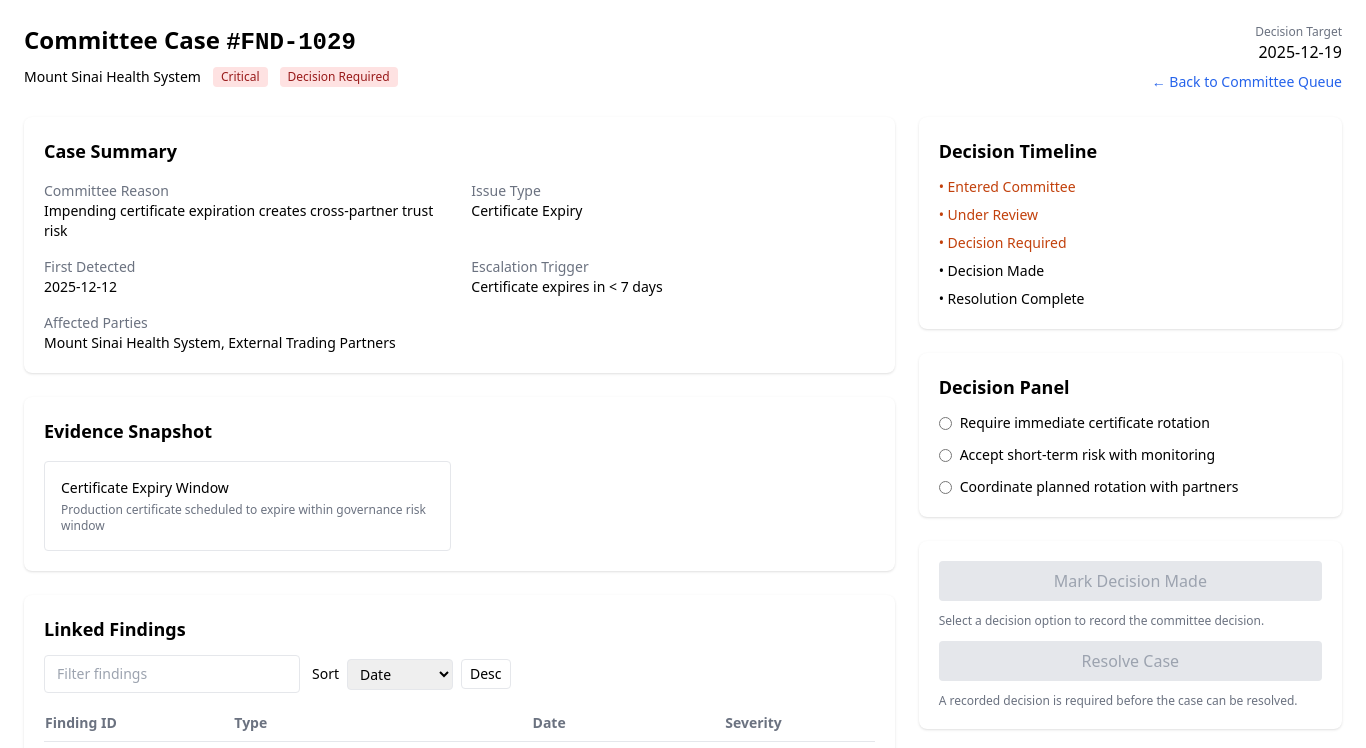
decision required case records decision before resolution
Expected: the button "Mark Decision Made" is disabled, [939,561,1322,601]
Expected: the text "Select a decision option to record the committee decision." is shown, [939,612,1264,629]
Click the radio button labelled "Require immediate certificate rotation" at (945, 424), box [939,417,952,430]
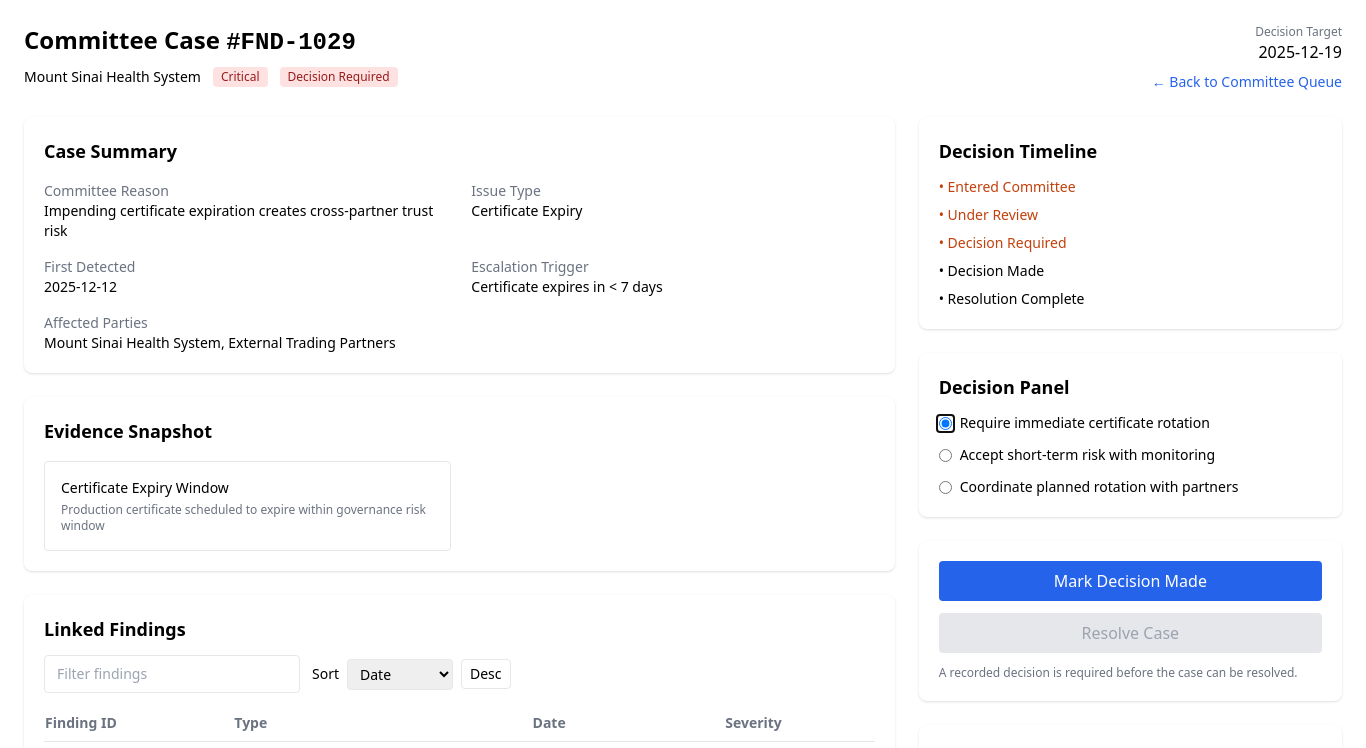
Expected: the button "Mark Decision Made" is enabled
Click the button "Mark Decision Made" at (1130, 581), box [939,561,1322,601]
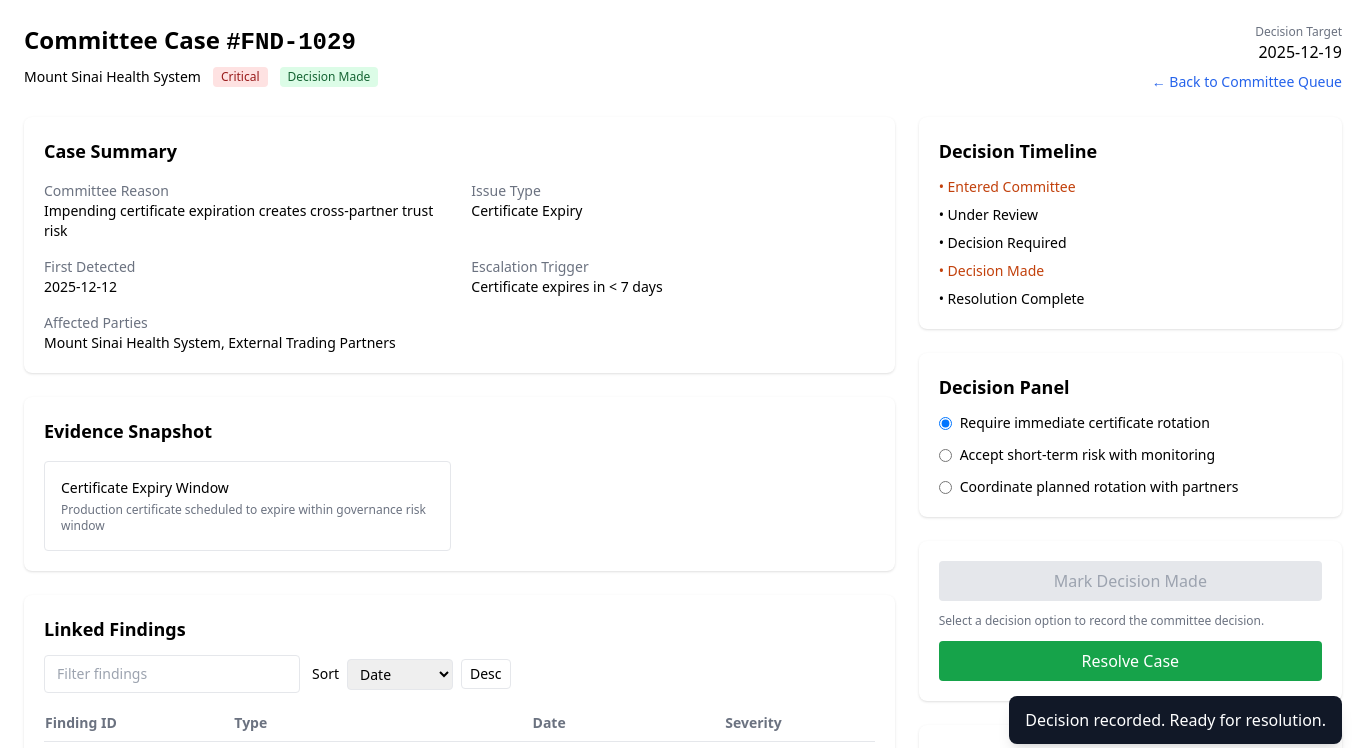
Expected: the text "Decision Made" is shown, [280,67,378,87]
Expected: the button "Resolve Case" is enabled, [939,641,1322,681]
